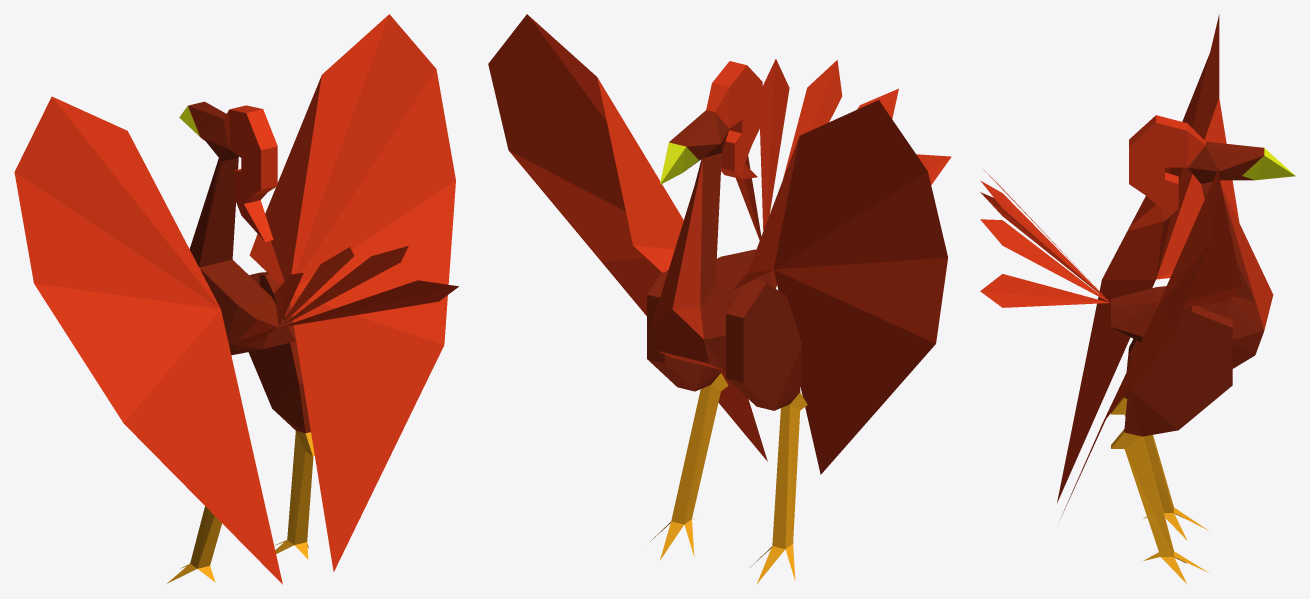
Rendered from npc_world_entrana_fire_bird_0.obj.
The picture shows the model from 3 angles, left to right: view 1: azimuth 30°, elevation 25°; view 2: azimuth 150°, elevation 25°; view 3: azimuth 270°, elevation 25°; orthographic projection. The views are drawn at different scales.
Bounding box in the file's own units: 0.7812 × 0.8828 × 0.5469.
